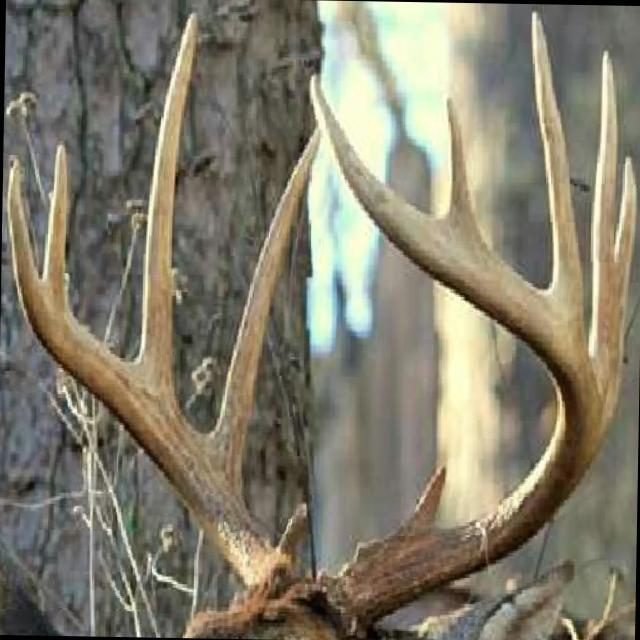L-F: (306, 70, 604, 637)
L-G1: (400, 464, 448, 533)
L-G3: (587, 48, 617, 413)
L-G4: (531, 7, 584, 328)
L-G5: (444, 93, 478, 232)
R-G1: (274, 500, 308, 574)
R-G2: (206, 127, 320, 488)
R-G3: (136, 7, 198, 384)
R-G4: (42, 141, 68, 305)
